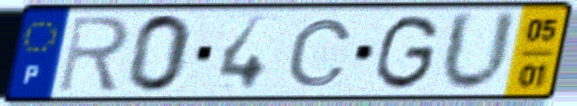0: (122, 12, 201, 95)
4: (215, 13, 271, 94)
C: (284, 16, 356, 90)
G: (371, 12, 443, 93)
R: (54, 13, 133, 95)
U: (436, 8, 521, 96)
